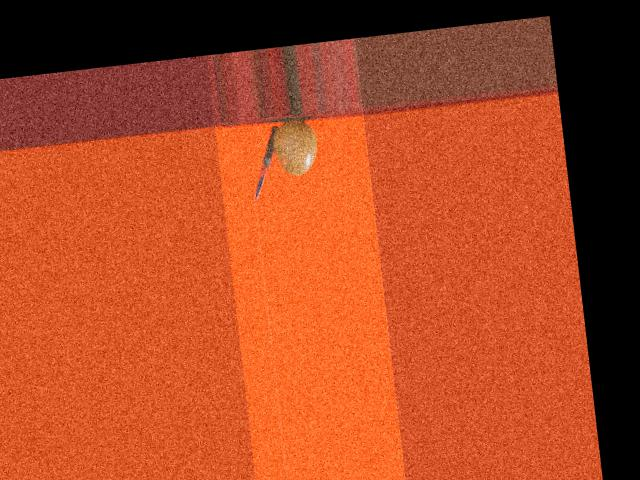egg: (270, 117, 319, 176)
